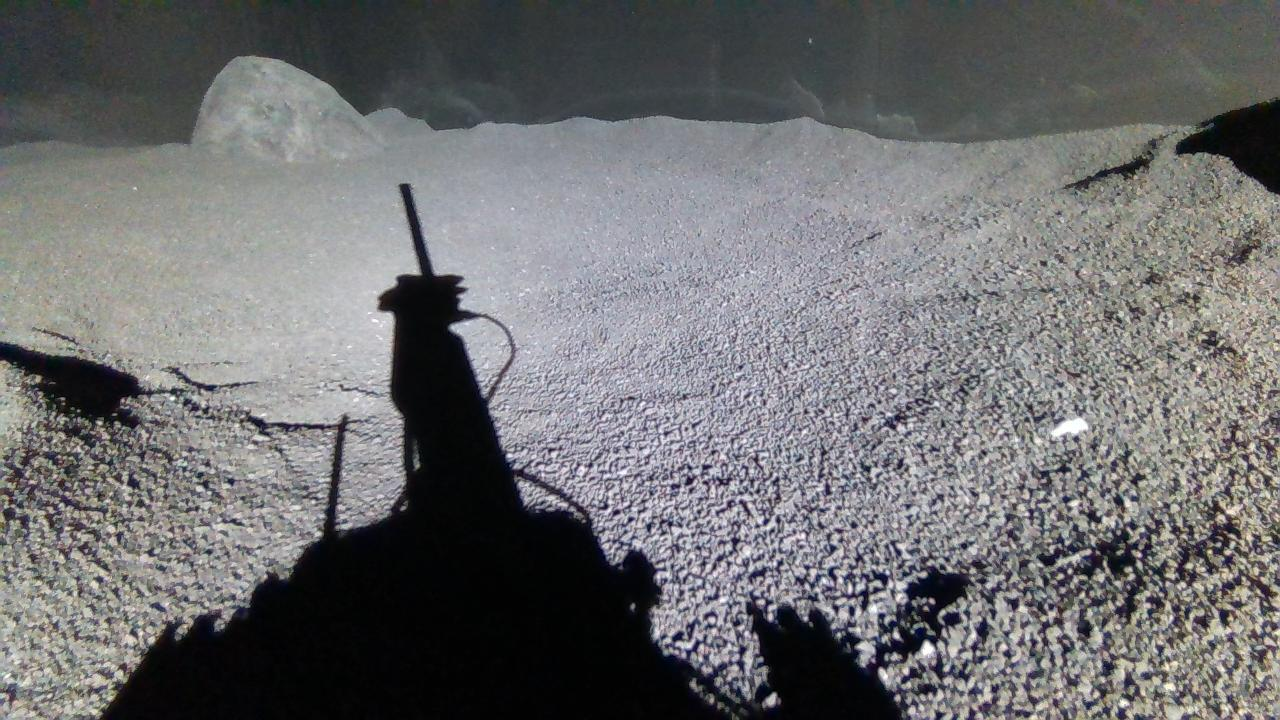rock: (191, 55, 384, 161)
